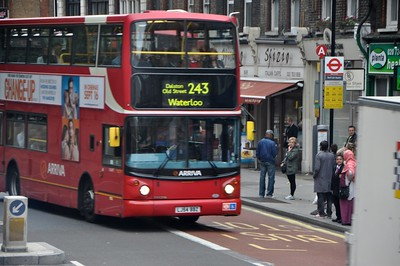bus: (1, 9, 242, 224)
